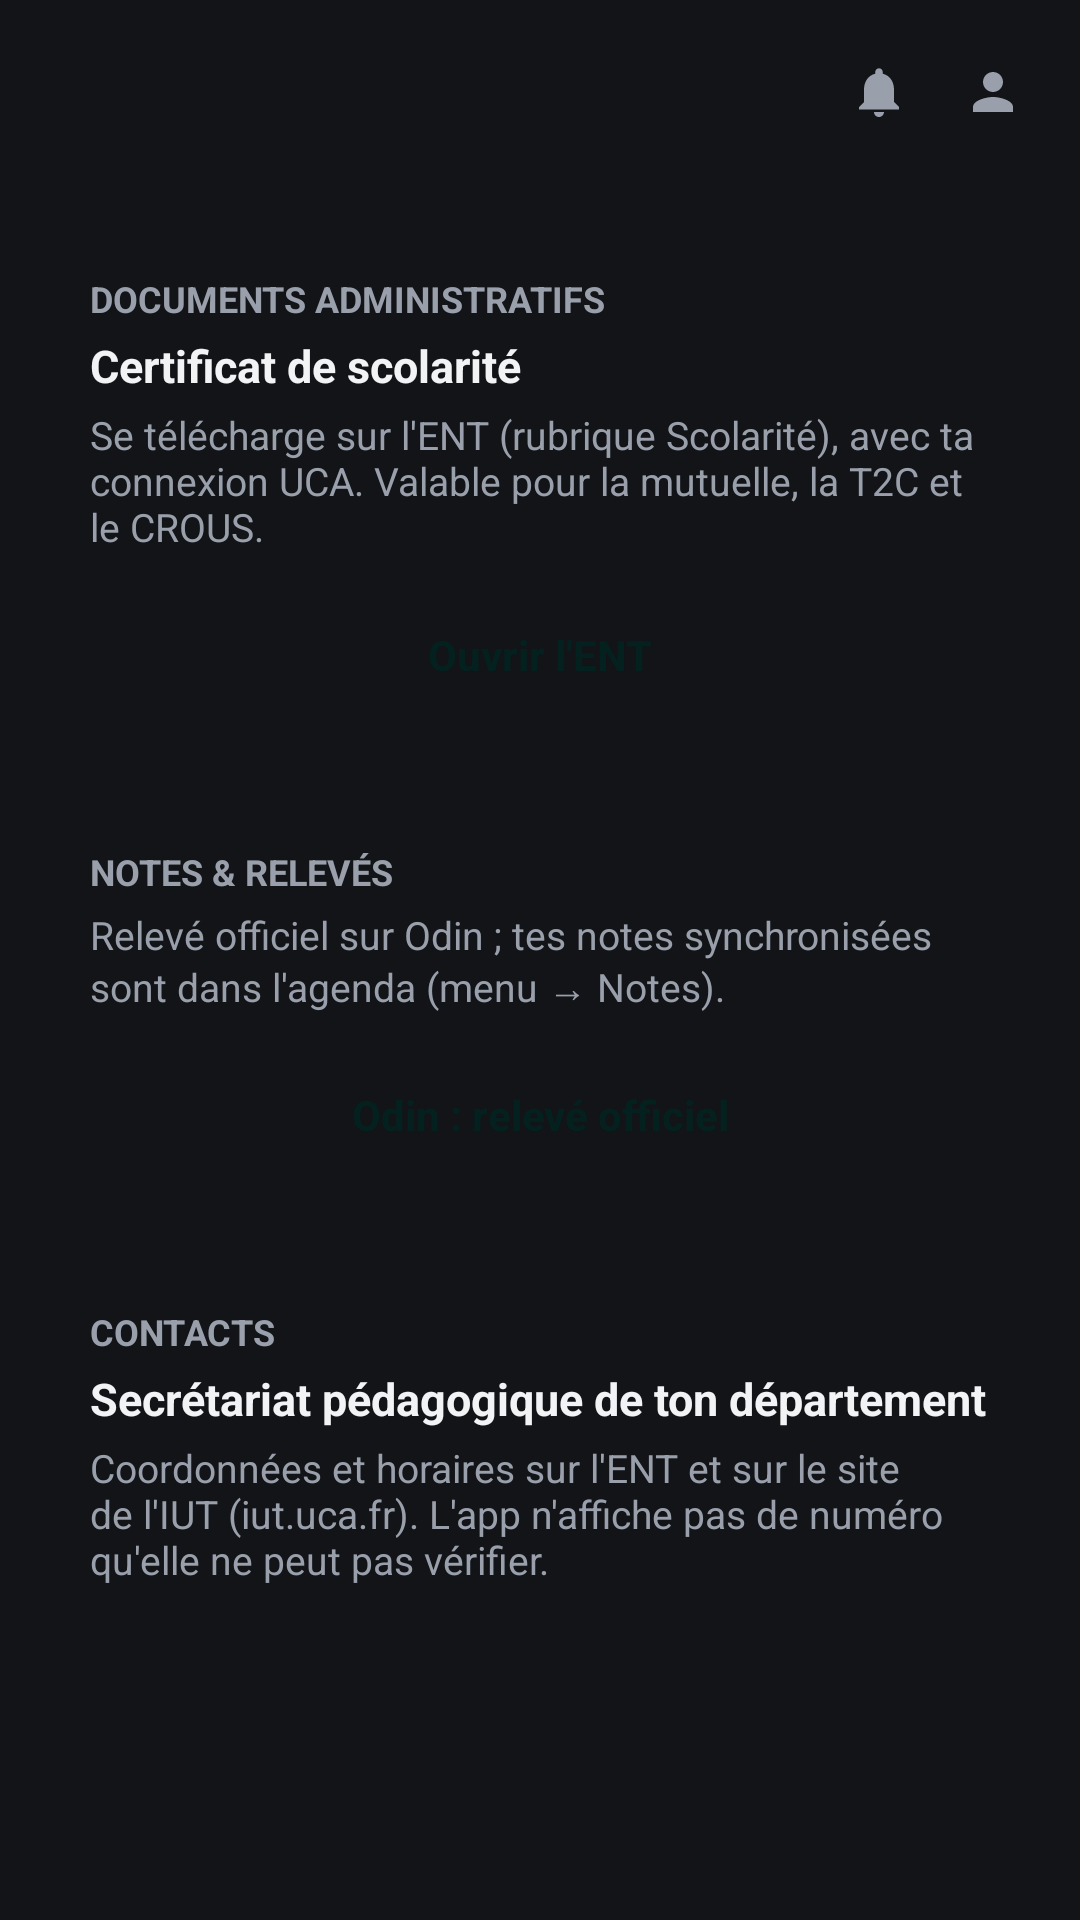

Screen size 1080 x 1920. Icon name, then its center in pixels as [x,y]:
Notifications: [879,92]
Profil: [993,92]
